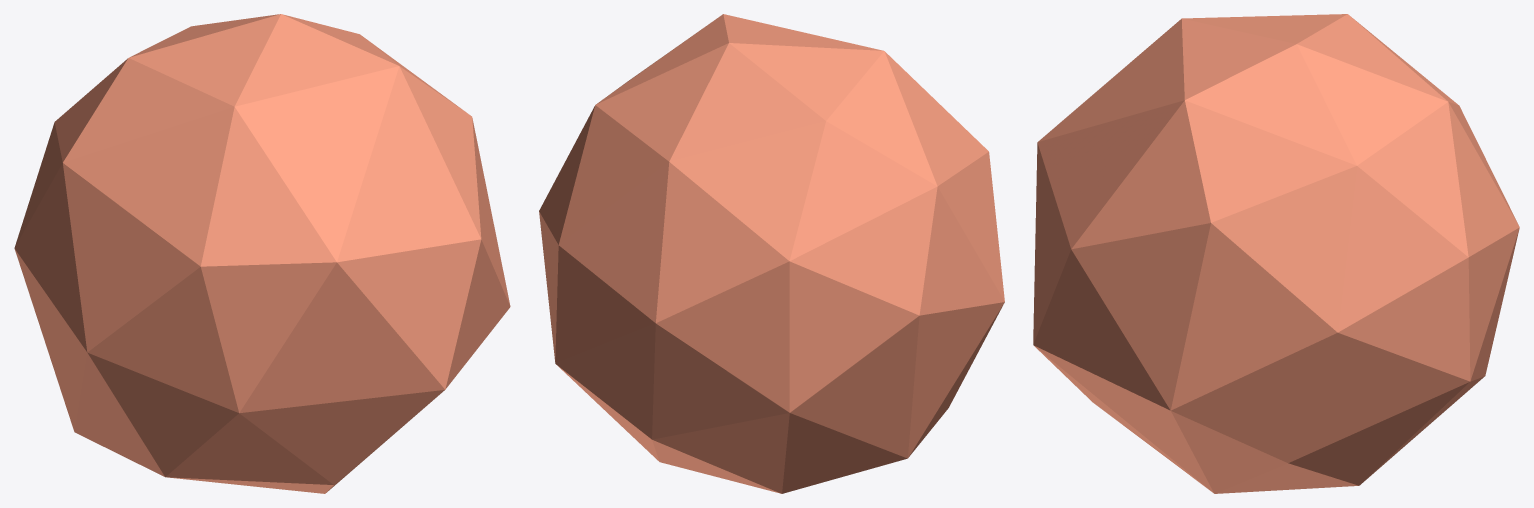
Rendered from steroide2.fbx.
The picture shows the model from 3 angles, left to right: view 1: azimuth 30°, elevation 25°; view 2: azimuth 150°, elevation 25°; view 3: azimuth 270°, elevation 25°; orthographic projection. The views are drawn at different scales.
Visible parts, largest first — view 1: Sfera_5; view 2: Sfera_5; view 3: Sfera_5.
Boxes of the visible parts, bbox=[...] form: Sfera_5: bbox=[14, 14, 510, 493]; Sfera_5: bbox=[539, 14, 1004, 493]; Sfera_5: bbox=[1033, 14, 1519, 493].
Size of the model in its own units: 103 by 106 by 104.
